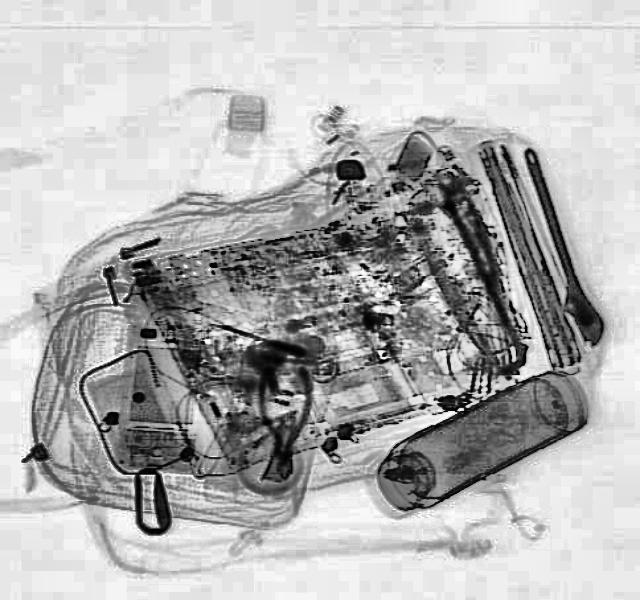Pliers: (253, 366, 311, 480)
Wrench: (508, 142, 610, 350)
